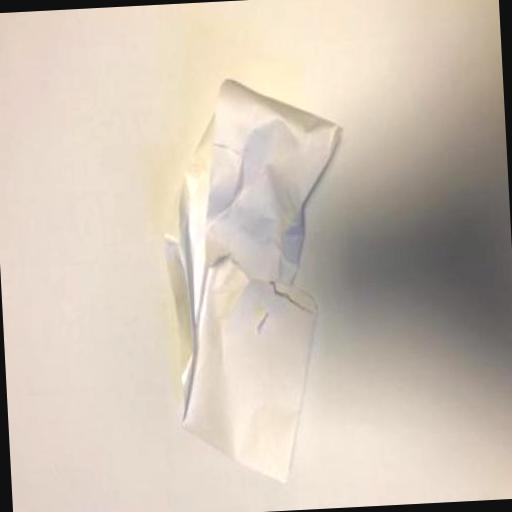paper: (154, 72, 360, 486)
